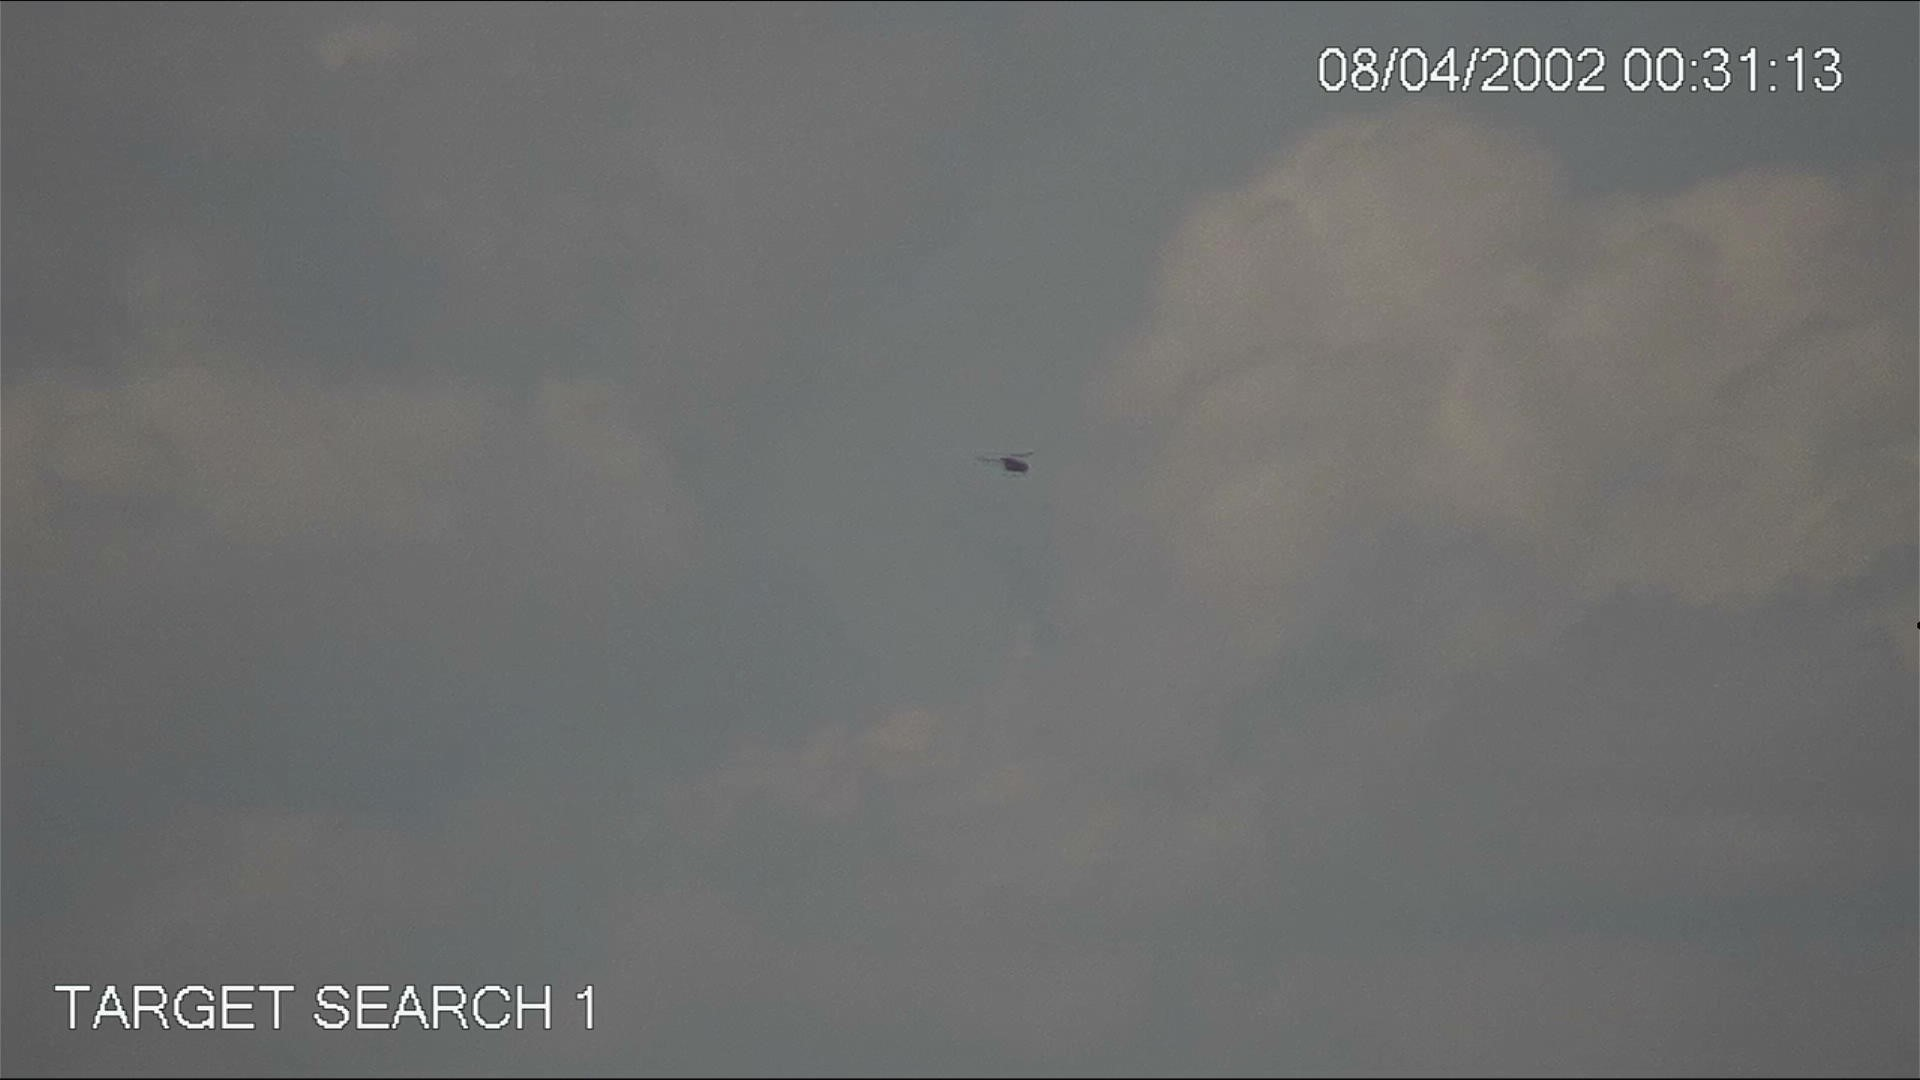SU_30: (975, 447, 1040, 481)
